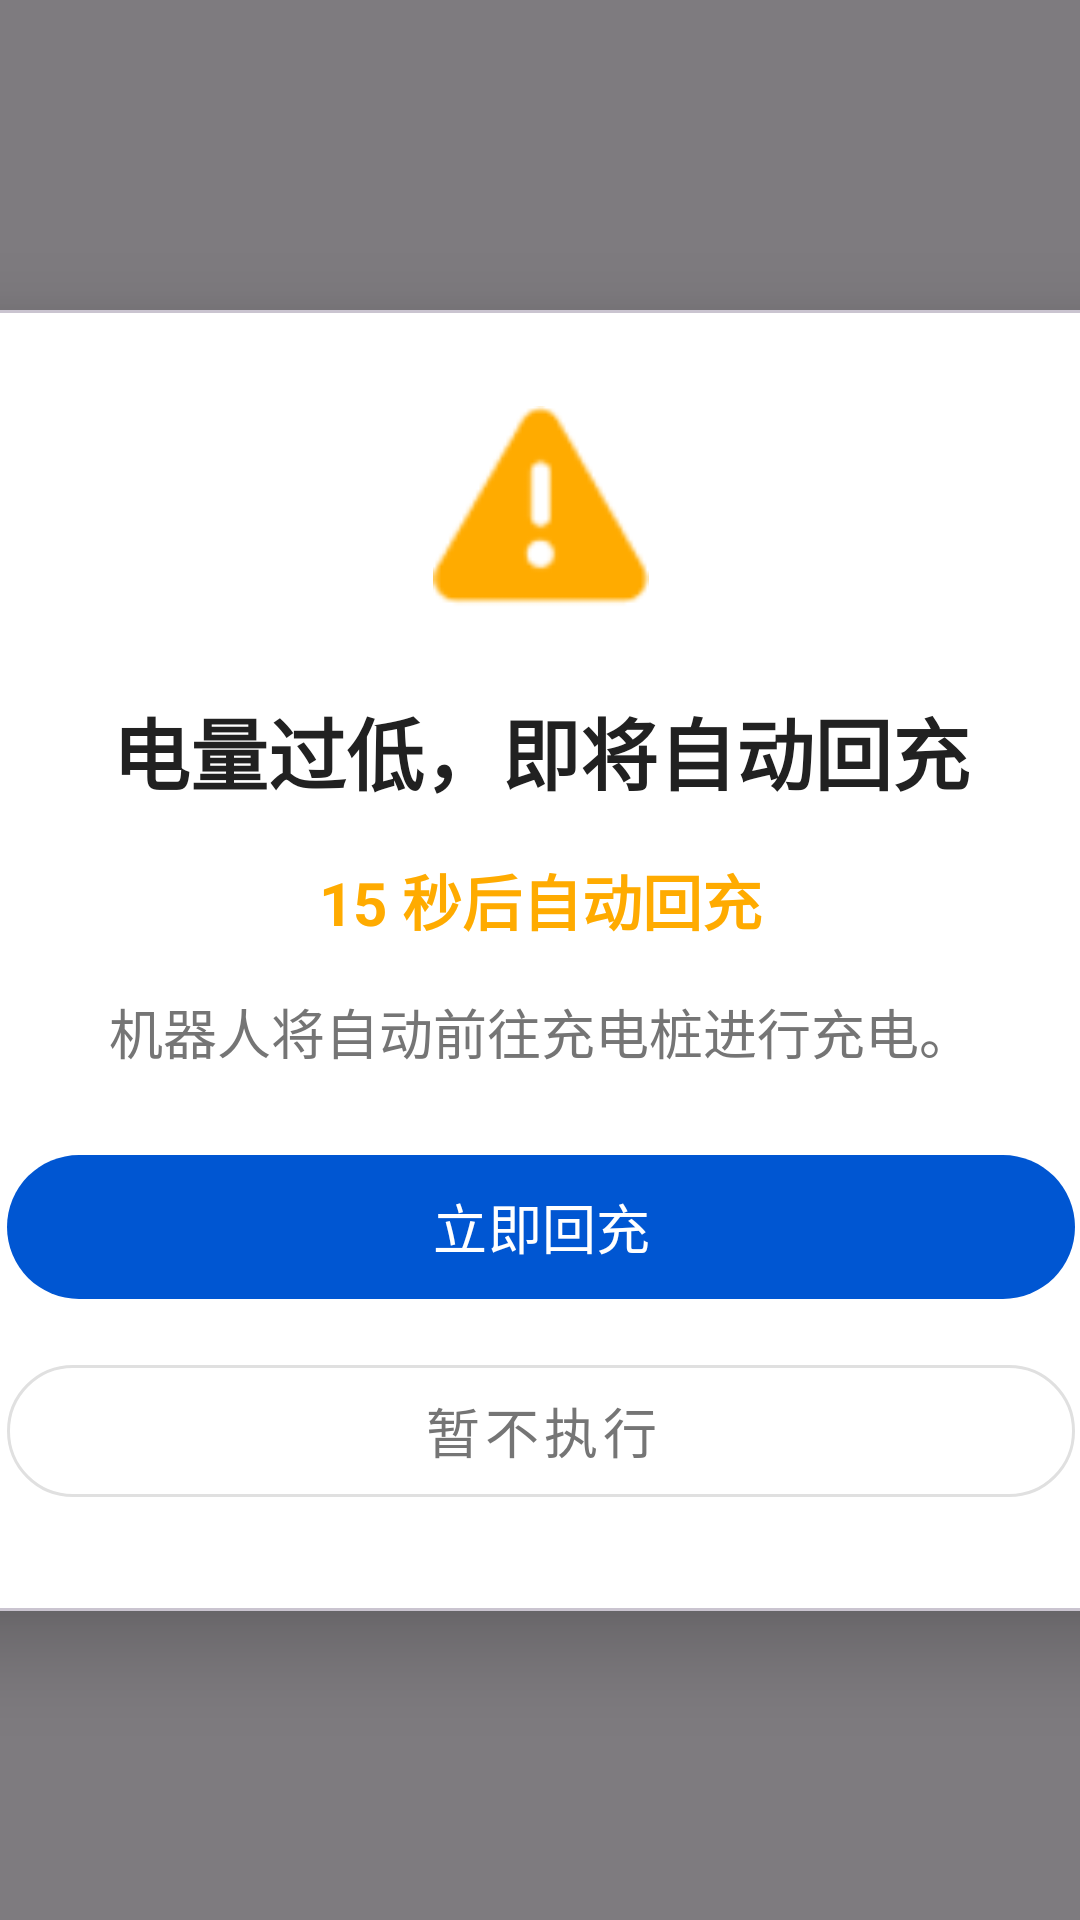

Named icons in this screenshot (1080w x 1920h) and their bounding boxes, (x1,y1,x2,y2):
alert: (433,406,649,603)
